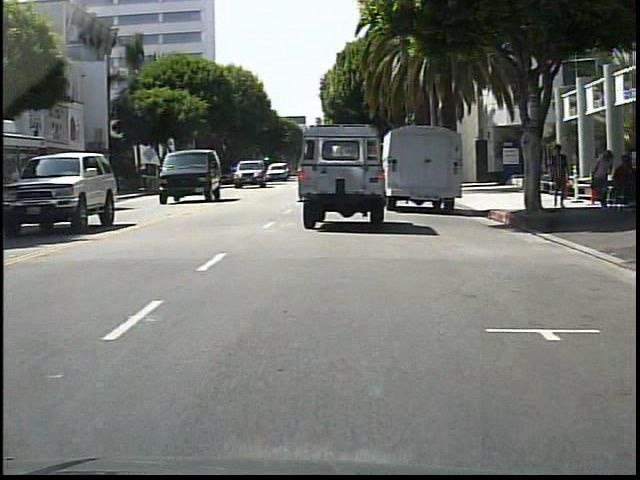person: (550, 141, 573, 210), (594, 148, 615, 210)
